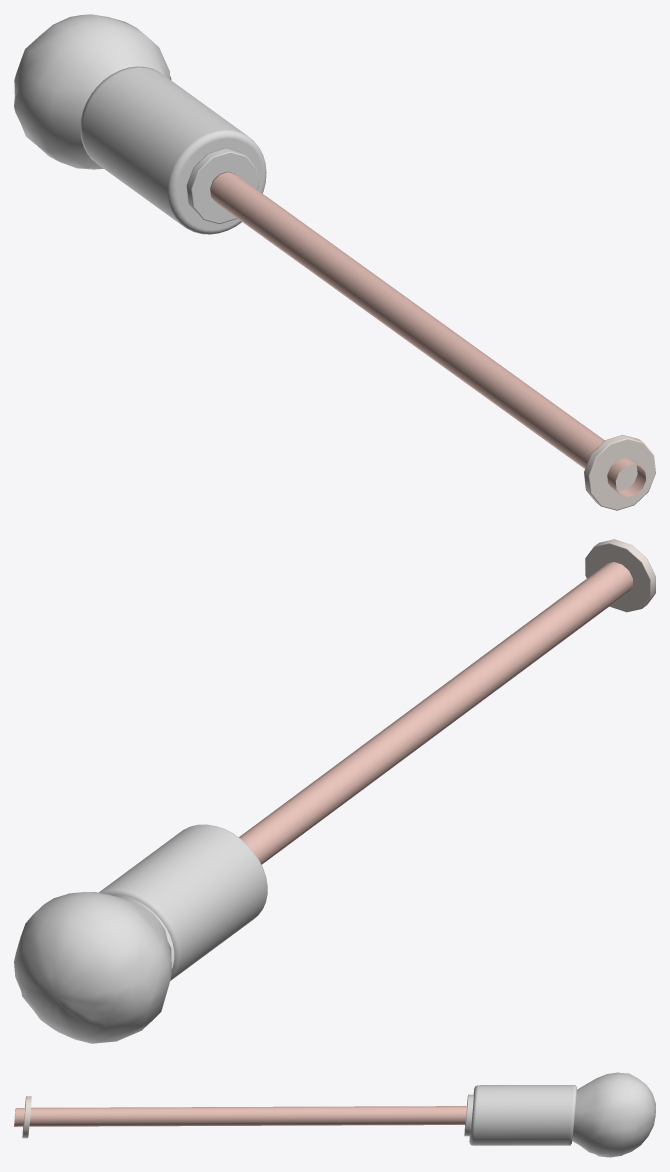
File: branch.021_c.glb
3 renders of one model, top to bottom at view 1: azimuth 30°, elevation 25°; view 2: azimuth 150°, elevation 25°; view 3: azimuth 270°, elevation 25°, orthographic. The views are drawn at different scales.
Visible parts, largest first — view 1: MET-59_3D-Model.17673, MET-59_3D-Model.17674, glass.009, MET-59_3D-Model.17675; view 2: glass.009, MET-59_3D-Model.17674, MET-59_3D-Model.17673, MET-59_3D-Model.17675; view 3: MET-59_3D-Model.17674, MET-59_3D-Model.17673, glass.009, MET-59_3D-Model.17675.
Part boxes in pixels (left/top/right/bottom): MET-59_3D-Model.17673: left=80, top=66, right=266, bottom=234; MET-59_3D-Model.17674: left=210, top=171, right=645, bottom=496; glass.009: left=14, top=14, right=171, bottom=169; MET-59_3D-Model.17675: left=584, top=435, right=655, bottom=510; glass.009: left=14, top=892, right=171, bottom=1043; MET-59_3D-Model.17674: left=239, top=562, right=632, bottom=864; MET-59_3D-Model.17673: left=99, top=824, right=267, bottom=980; MET-59_3D-Model.17675: left=585, top=539, right=655, bottom=612; MET-59_3D-Model.17674: left=14, top=1106, right=466, bottom=1126; MET-59_3D-Model.17673: left=464, top=1085, right=576, bottom=1145; glass.009: left=572, top=1072, right=655, bottom=1157; MET-59_3D-Model.17675: left=22, top=1096, right=31, bottom=1138.
Size of the model in its own units: 0.0496 by 0.0475 by 0.3591.
